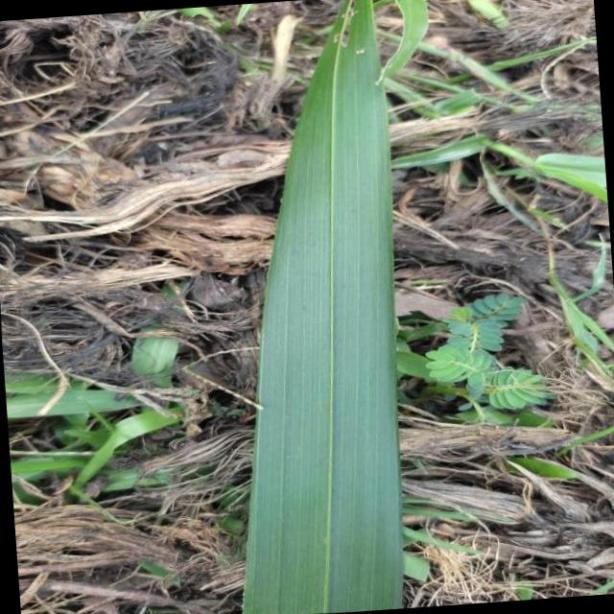Boron: (249, 3, 408, 614)
